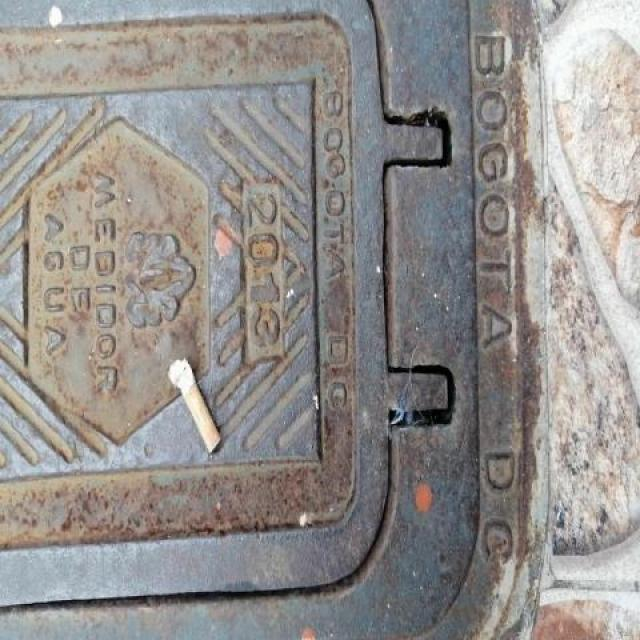non-organic waste: (163, 349, 237, 458)
